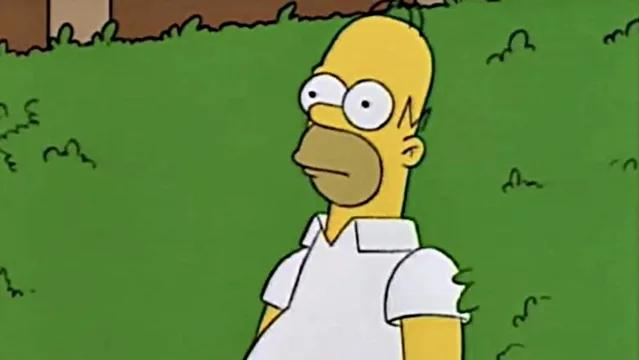Homer: (236, 7, 491, 360)
